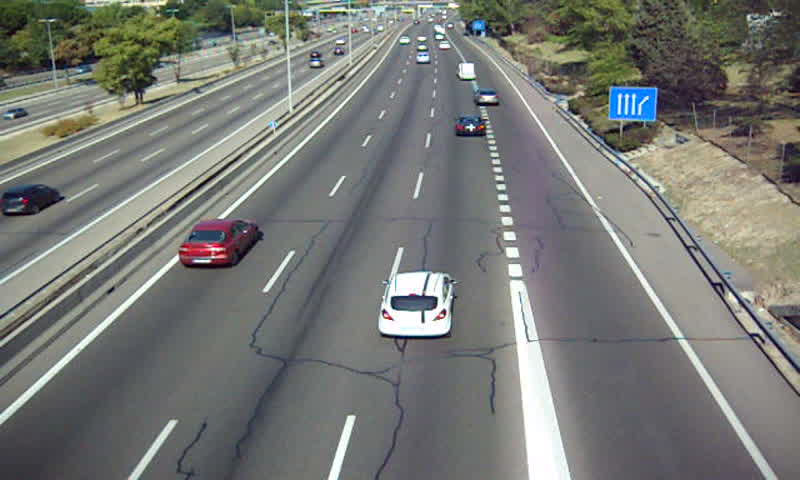car: (379, 272, 454, 336), (179, 220, 258, 268), (453, 114, 486, 136), (475, 88, 500, 106)
van: (458, 62, 476, 79)
